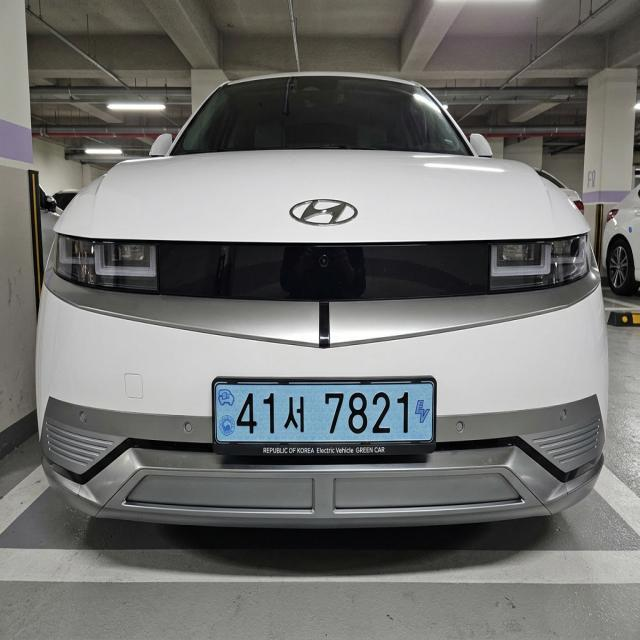car: (181, 362, 469, 480)
carev: (213, 375, 239, 449), (413, 382, 439, 448)
